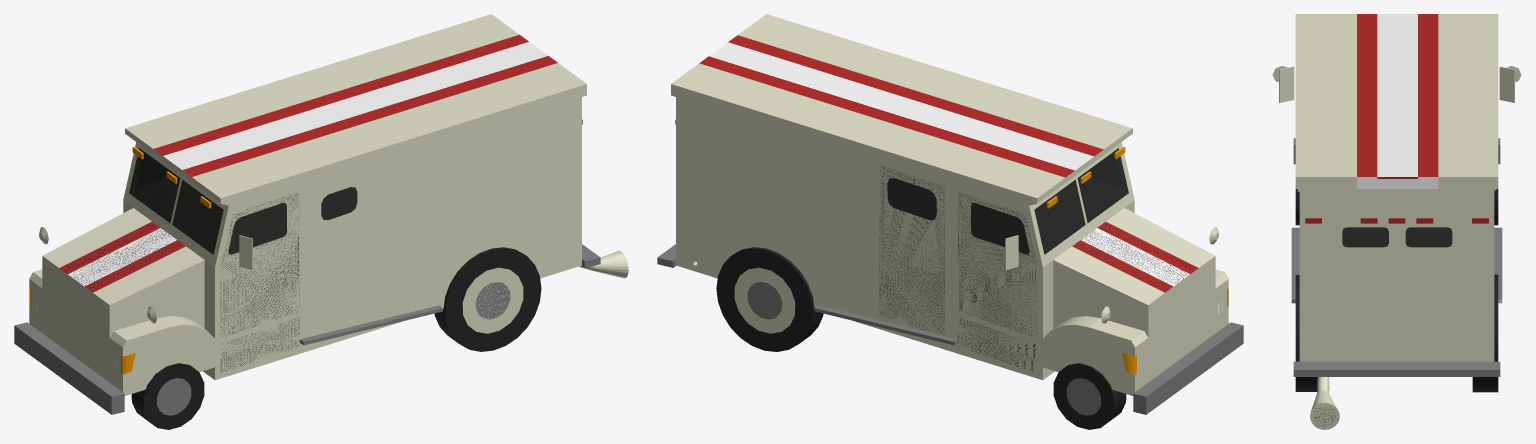
Rendered from truck.dae.
3 views of the same model, side by side, from view 1: azimuth 30°, elevation 25°; view 2: azimuth 150°, elevation 25°; view 3: azimuth 270°, elevation 25° (orthographic). The views are drawn at different scales.
Parts seen in each view (by area): view 1: SketchUp (×20), SUV_tire_1 (×2); view 2: SketchUp (×20), SUV_tire_1 (×2); view 3: SketchUp (×15), group_0, mirror (×2).
Boxes of the visible parts, x1=… form: SketchUp (×20): x1=14, y1=14, x2=628, y2=414; SUV_tire_1 (×2): x1=131, y1=363, x2=204, y2=429; SketchUp (×20): x1=671, y1=14, x2=1243, y2=414; SUV_tire_1 (×2): x1=1053, y1=363, x2=1126, y2=429; SketchUp (×15): x1=1291, y1=14, x2=1502, y2=429; group_0: x1=1293, y1=361, x2=1500, y2=376; mirror (×2): x1=1279, y1=66, x2=1514, y2=102.
Size of the model in its own units: 323 by 125 by 144.
